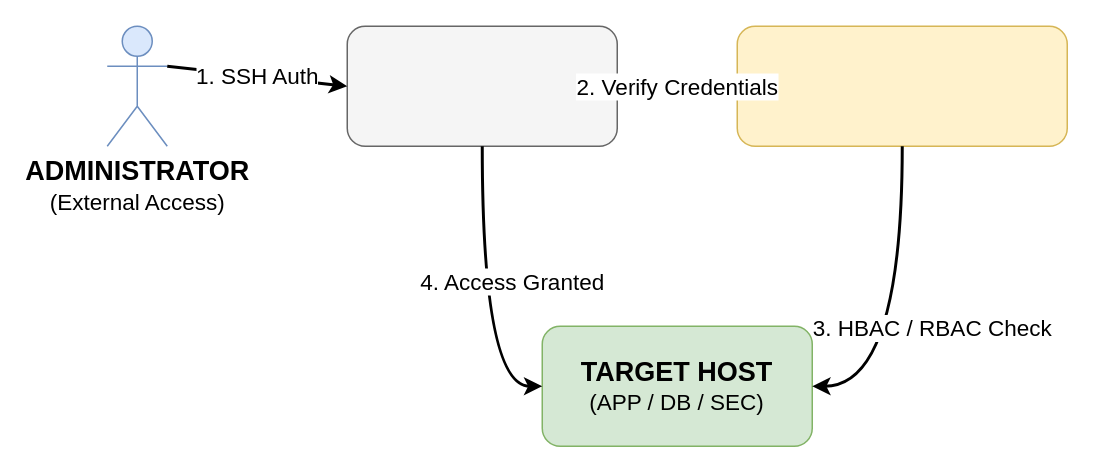
This 1094x473 diagram has some shape labels left out. Each missing label, with the centre of its shape:
FREEIPA SERVER (LDAP / Kerberos / CA): the point at 901,85
JUMP SERVER (Gateway Node): the point at 481,85
